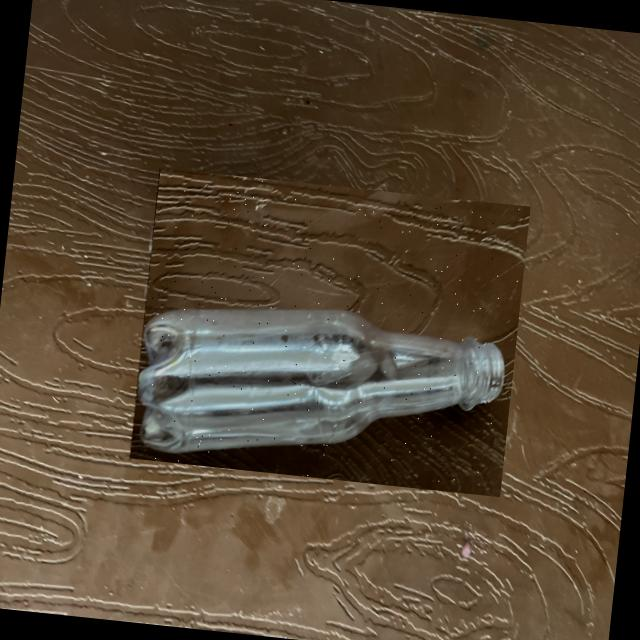PET_ClearBottle: (128, 167, 530, 496)
